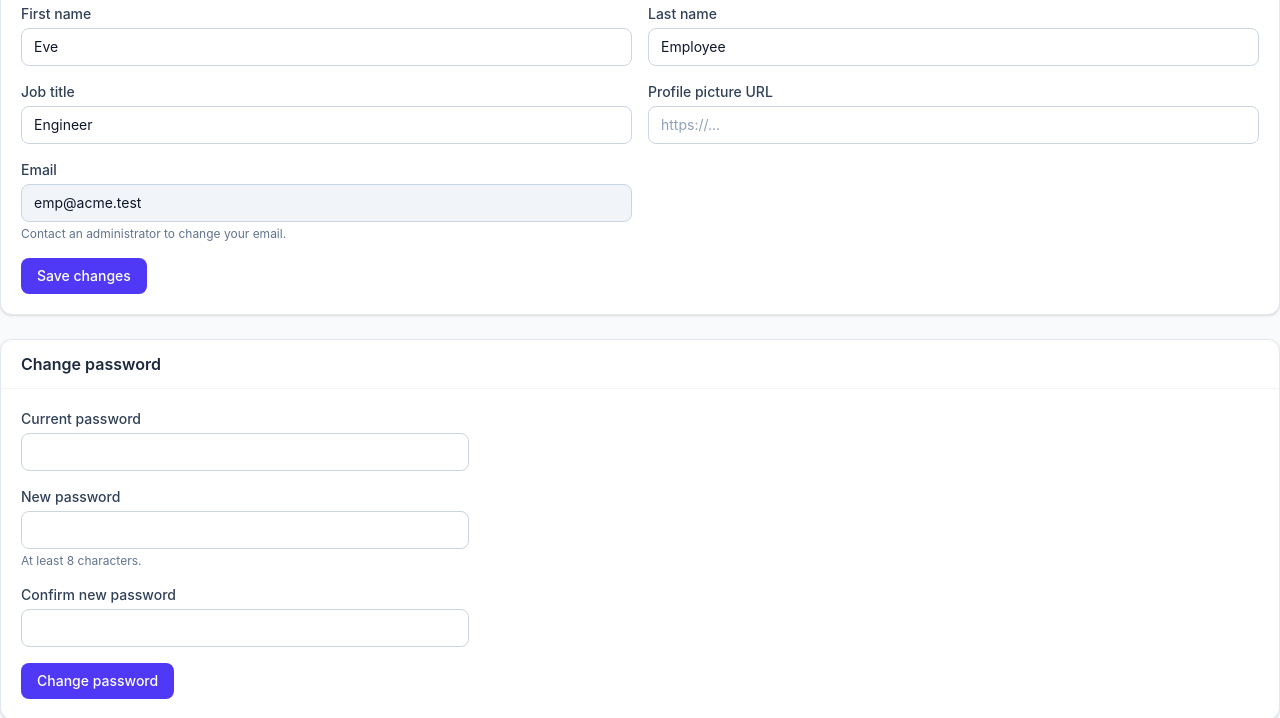
Test: ProfilePage › shows the API error when the current password is wrong
(page scrolled)
Step 1. Type "wrongpass" into the password field labelled "Current password" → (245, 452), box 21,433 -> 469,471
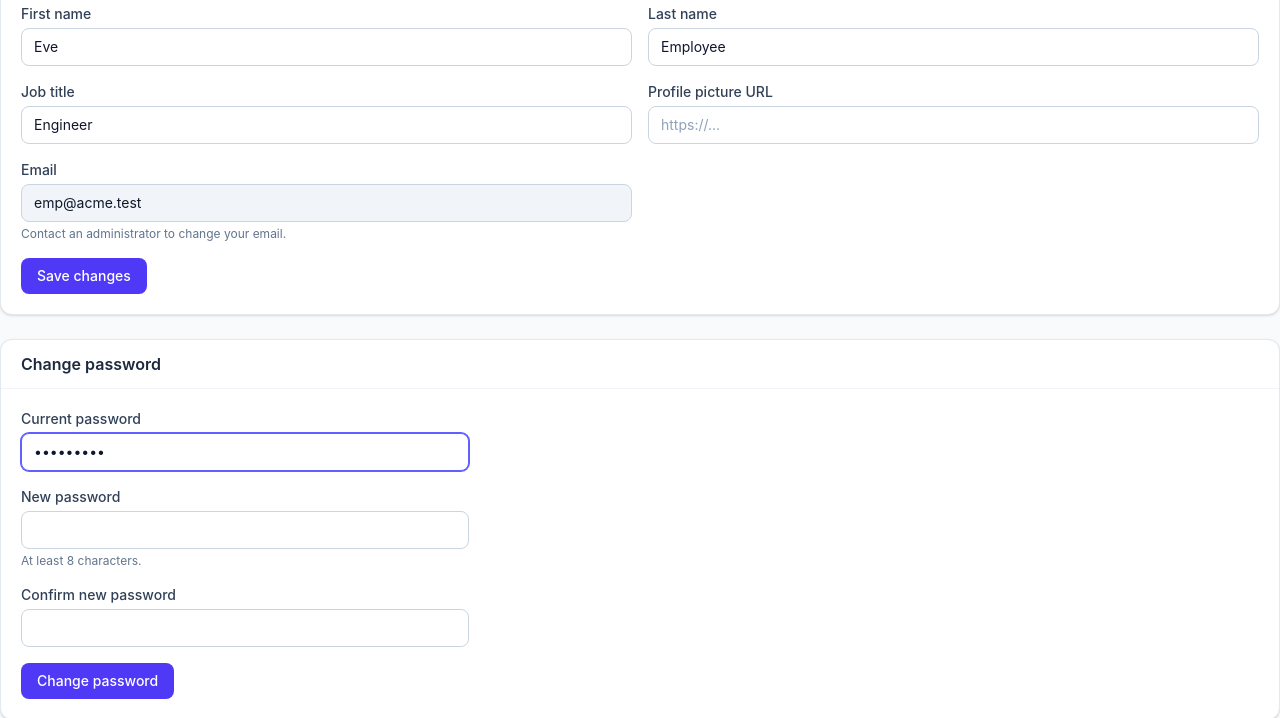
Step 2. Type "newsecret1" into the password field labelled "New password" → (245, 530), box 21,511 -> 469,549
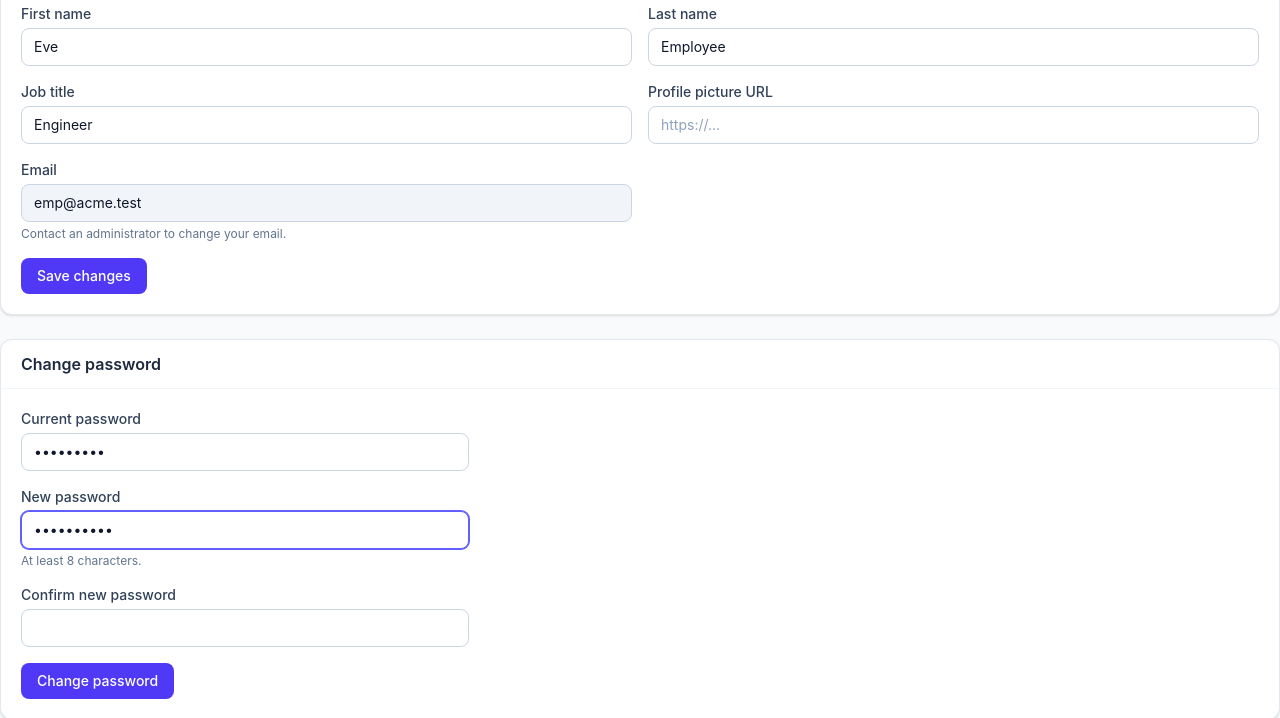
Step 3. Type "newsecret1" into the password field labelled "Confirm new password" → (245, 628), box 21,609 -> 469,647
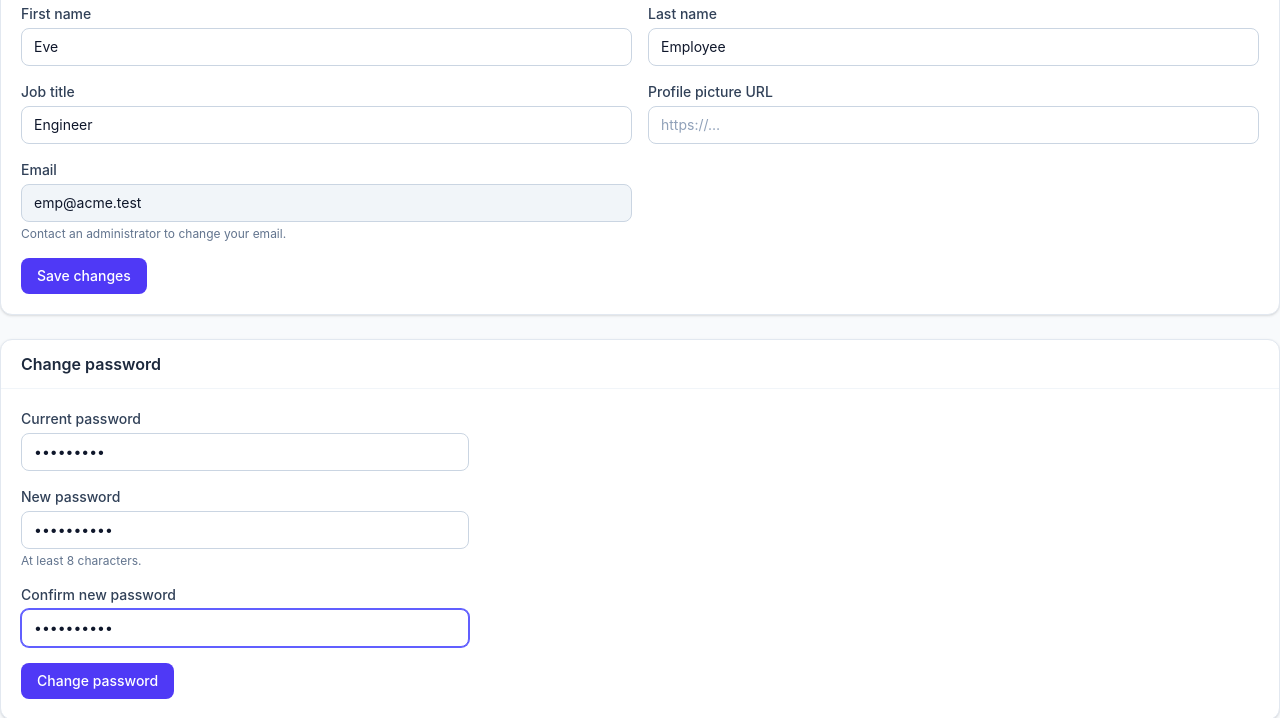
Step 4. Click the button "Change password" → (98, 681), box 21,663 -> 174,699
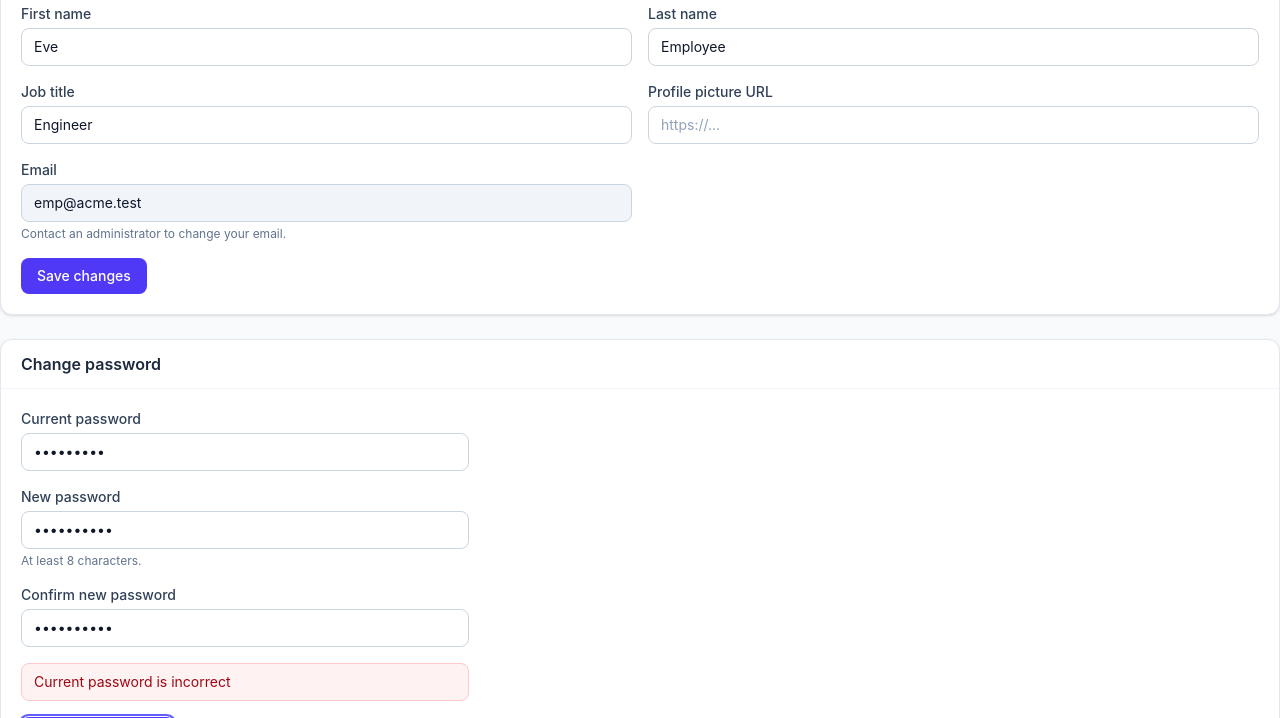
Check: the message reads "Current password is incorrect", box 34,673 -> 230,690
